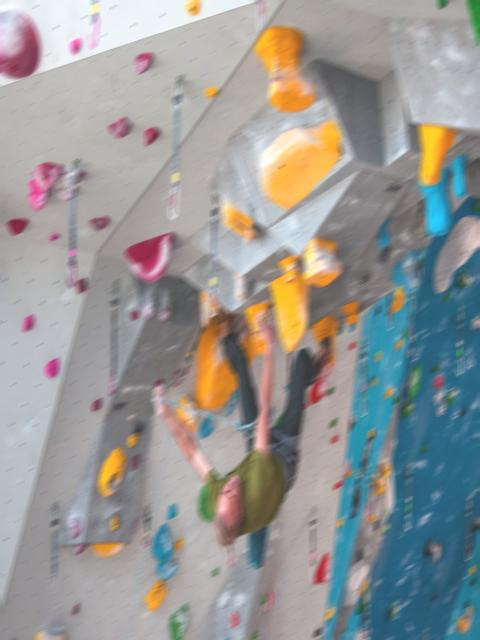crimp: (142, 300, 155, 319), (157, 302, 170, 321), (185, 0, 200, 15), (57, 188, 72, 200), (434, 390, 445, 405), (229, 611, 238, 627), (333, 477, 343, 489), (436, 403, 445, 416)
jib: (44, 358, 59, 377), (22, 315, 34, 330), (70, 38, 81, 54), (167, 504, 177, 519), (205, 87, 218, 98), (127, 433, 137, 447), (131, 453, 139, 470), (76, 279, 86, 292), (91, 398, 101, 410), (111, 516, 118, 531), (49, 233, 59, 241), (130, 310, 138, 320), (260, 593, 266, 604), (211, 567, 218, 576), (72, 603, 78, 613), (326, 387, 334, 394), (330, 418, 336, 427), (349, 341, 355, 349), (331, 435, 337, 442)
jug: (254, 26, 316, 111), (418, 124, 456, 185), (302, 238, 341, 286), (245, 301, 269, 354), (450, 154, 467, 199), (279, 255, 298, 282), (377, 216, 389, 248), (233, 273, 247, 300)
ledge: (258, 120, 341, 209), (157, 558, 178, 580), (135, 52, 152, 73), (144, 127, 160, 145)
pinch: (125, 232, 174, 281), (152, 523, 172, 562), (27, 178, 47, 210), (108, 116, 131, 137)
pocket: (98, 449, 126, 497)
sidepull: (407, 364, 420, 400)
sloper: (0, 9, 40, 78), (418, 167, 452, 235), (392, 249, 419, 293), (145, 578, 166, 610)
undercling: (31, 162, 62, 193), (313, 552, 331, 583), (91, 542, 124, 557)
volume: (269, 168, 413, 261), (57, 412, 152, 544)
